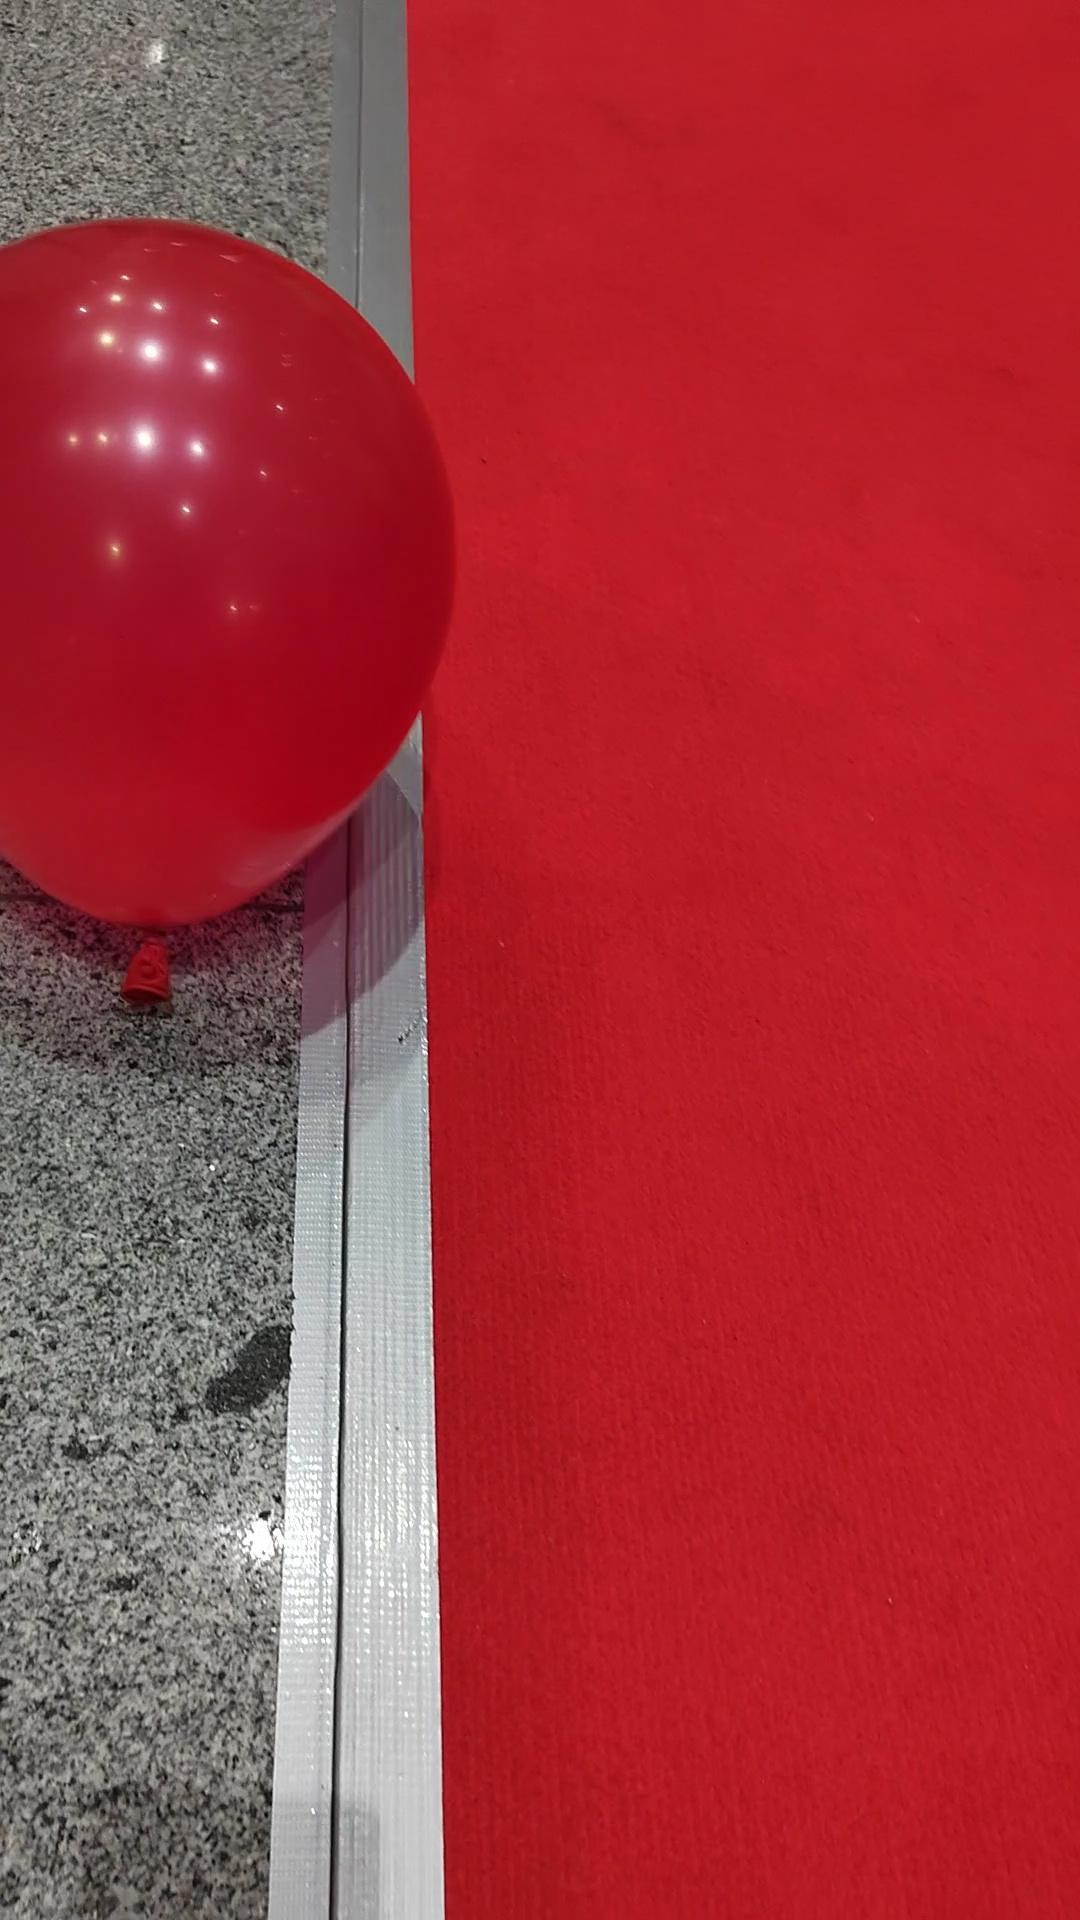red: (0, 223, 459, 934)
